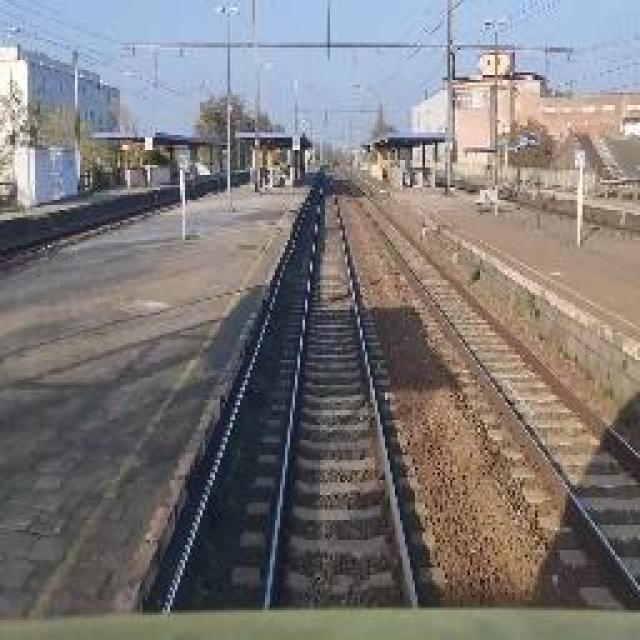rail: (333, 174, 640, 611), (219, 160, 447, 614)
